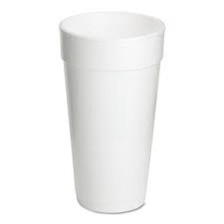paper_cup: (52, 6, 170, 219)
